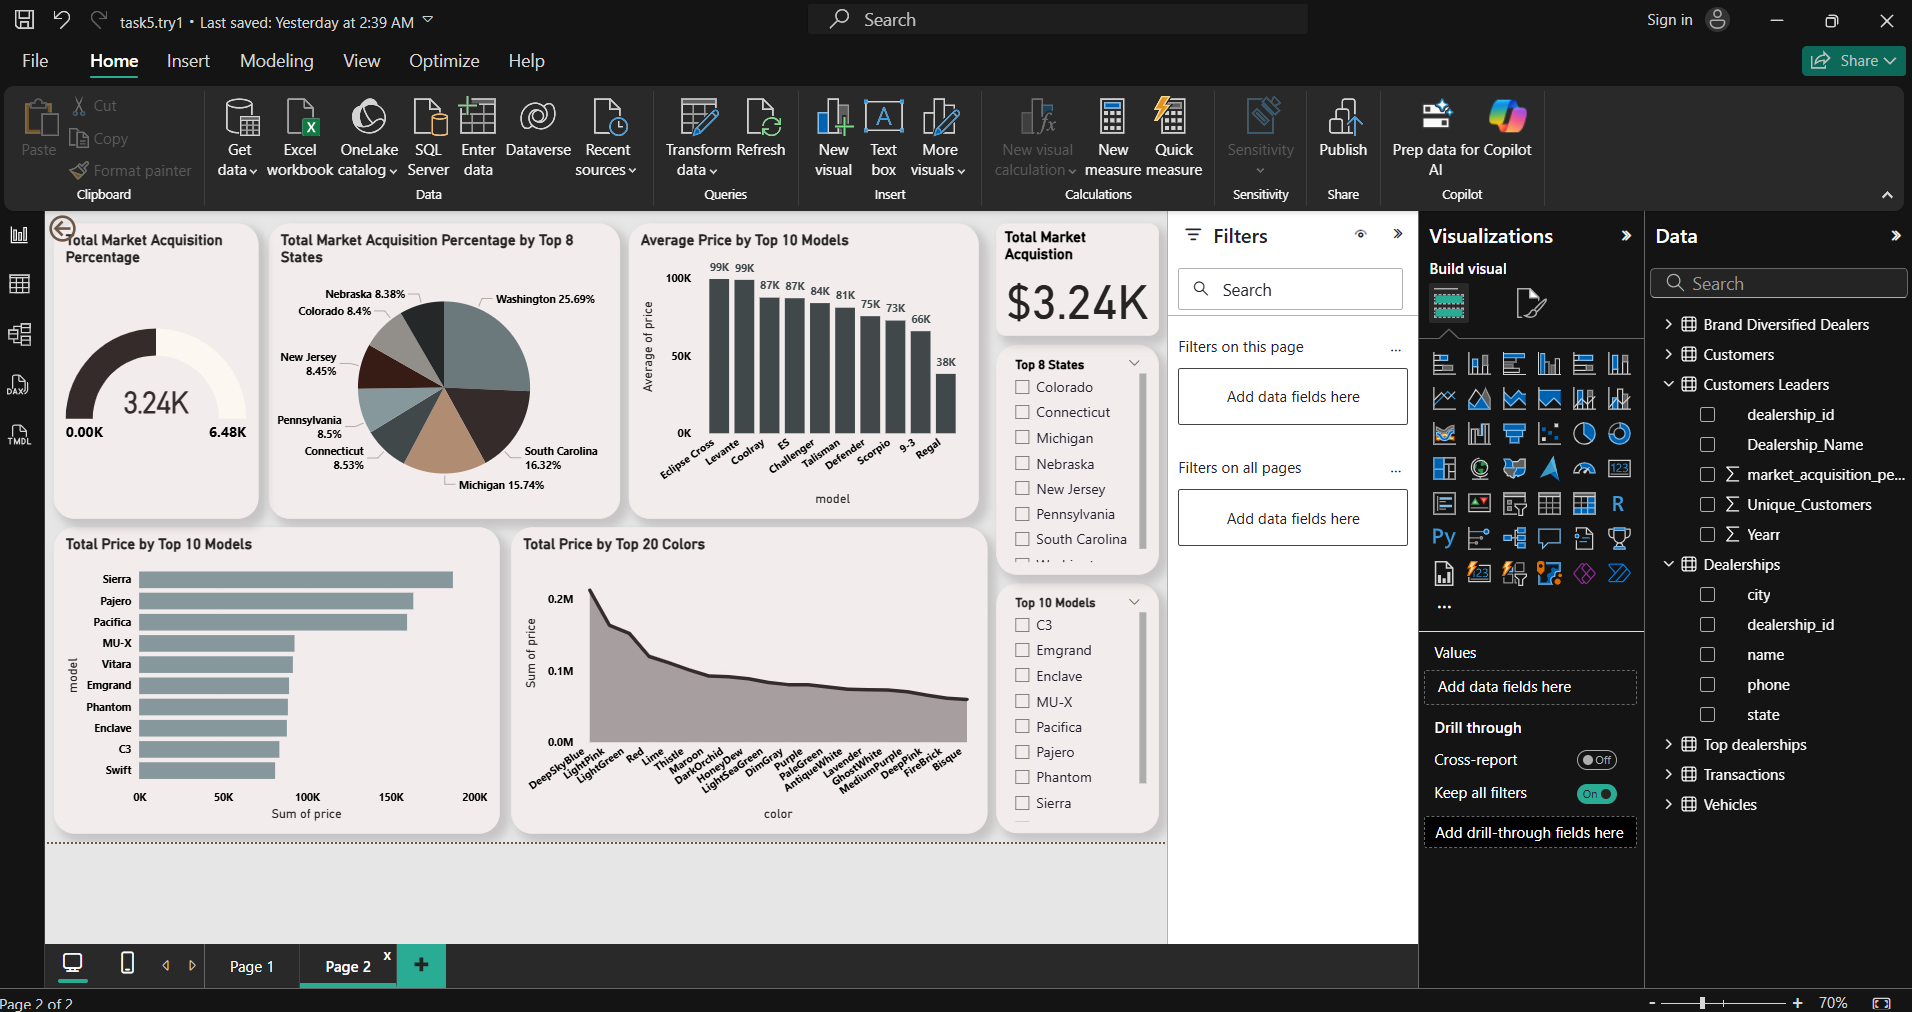

The dashboard page shown, as its layout file describes it:
{"tool":"powerbi","page":{"name":"Page 2","canvas":[1280,720],"ordinal":1},"visuals":[{"type":"pieChart","title":"Total Market Acquisition Percentage by Top 8 States","fields":{"Y":["Sum(Customers Leaders.market_acquisition_percentage)"],"Category":["Dealerships.state"]},"box":[255.2,14.3,400.6,336.5],"z":0},{"type":"clusteredBarChart","title":"Total Price by Top 10 Models","fields":{"Category":["Vehicles.model"],"Y":["Sum(Transactions.price)"]},"box":[10,360.7,509,349.3],"z":1000},{"type":"clusteredColumnChart","title":"Average Price by Top 10 Models","fields":{"Category":["Vehicles.model"],"Y":["Avg(Customers.price)"]},"box":[665.8,14.3,399.2,336.5],"z":2000},{"type":"stackedAreaChart","title":"Total Price by Top 20 Colors","fields":{"Y":["Sum(Transactions.price)"],"Category":["Vehicles.color"]},"box":[531.8,360.7,543.2,349.3],"z":3000},{"type":"slicer","fields":{"Values":["Vehicles.model"]},"box":[1085,424.9,185.3,285.1],"z":4000},{"type":"slicer","fields":{"Values":["Dealerships.state"]},"box":[1085,152.6,185.3,262.3],"z":5000},{"type":"gauge","title":"Total Market Acquisition Percentage","fields":{"Y":["Sum(Customers Leaders.market_acquisition_percentage)"]},"box":[10,14.3,233.8,336.5],"z":6000},{"type":"actionButton","box":[0,0,100,40],"z":7000},{"type":"card","title":"Total Market Acquistion","fields":{"Values":["Sum(Customers Leaders.market_acquisition_percentage)"]},"box":[1085,14.3,185.3,128.3],"z":8000}]}

Visuals, with their boxes on the page's 1280x720 design canvas (x1, y1, x2, y2). These are canvas units, not pixel positions in the 1912x1012 screenshot, which may show the page scaled, cropped or inside an application window:
"Total Market Acquisition Percentage by Top 8 States" pieChart: [255, 14, 656, 351]
"Total Price by Top 10 Models" clusteredBarChart: [10, 361, 519, 710]
"Average Price by Top 10 Models" clusteredColumnChart: [666, 14, 1065, 351]
"Total Price by Top 20 Colors" stackedAreaChart: [532, 361, 1075, 710]
slicer - Vehicles.model: [1085, 425, 1270, 710]
slicer - Dealerships.state: [1085, 153, 1270, 415]
"Total Market Acquisition Percentage" gauge: [10, 14, 244, 351]
actionButton: [0, 0, 100, 40]
"Total Market Acquistion" card: [1085, 14, 1270, 143]
